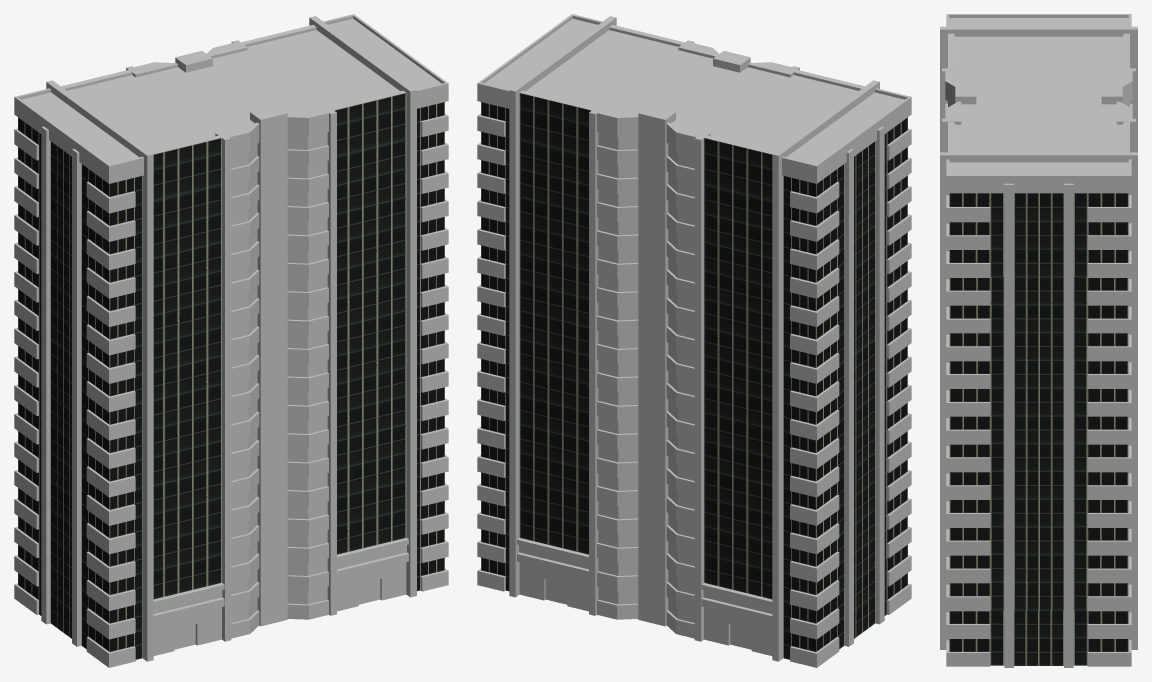
File: TWB-03.fbx
3 views of the same model, side by side, from view 1: azimuth 30°, elevation 25°; view 2: azimuth 150°, elevation 25°; view 3: azimuth 270°, elevation 25° (orthographic). The views are drawn at different scales.
Parts seen in each view (by area): view 1: Building; view 2: Building; view 3: Building.
Boxes of the visible parts, bbox=[...] form: Building: bbox=[14, 14, 448, 667]; Building: bbox=[477, 14, 911, 667]; Building: bbox=[940, 14, 1137, 667].
Size of what is drawn, in the model's own units: 38.09 by 53.51 by 19.36.
